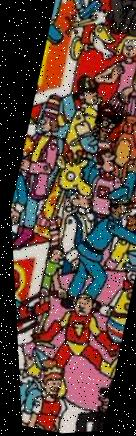waldo: (89, 101, 126, 144)
